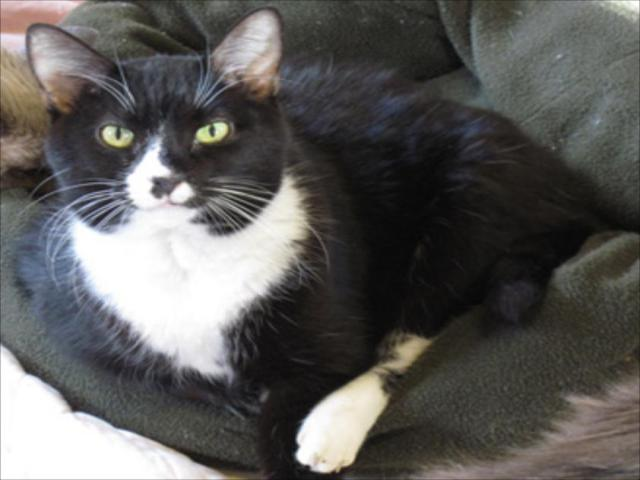Cat: (8, 8, 591, 474)
